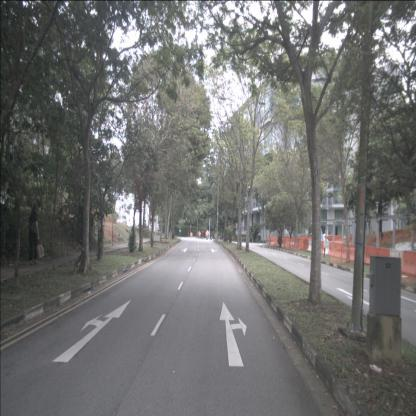barrier: (365, 246, 390, 266), (402, 250, 416, 276), (349, 244, 367, 264), (388, 249, 403, 272), (299, 236, 312, 250), (286, 237, 299, 250), (327, 241, 336, 257), (341, 244, 350, 259), (322, 235, 334, 246), (334, 242, 342, 258), (322, 241, 330, 255), (307, 238, 315, 252), (335, 236, 344, 245), (268, 237, 278, 245), (318, 241, 324, 254), (281, 237, 286, 248)
